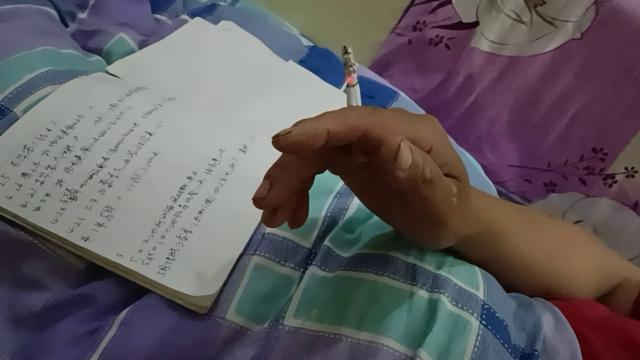Smoking: (342, 46, 366, 164)
